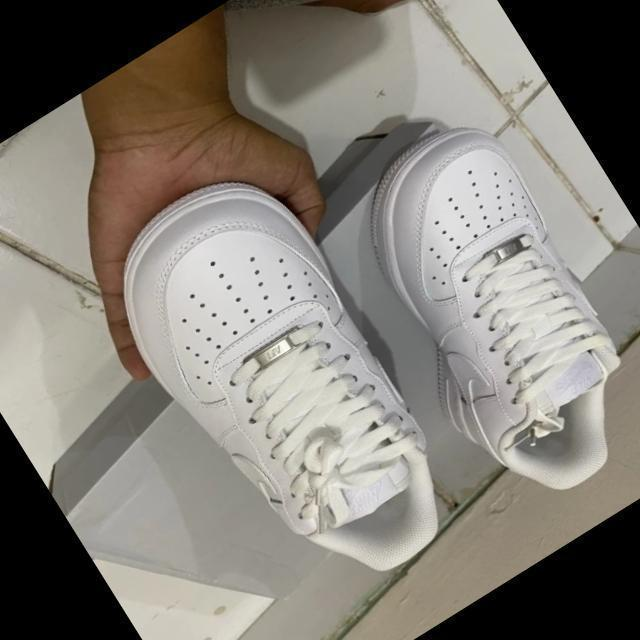nike original air force: (84, 144, 492, 621), (314, 99, 640, 527)
